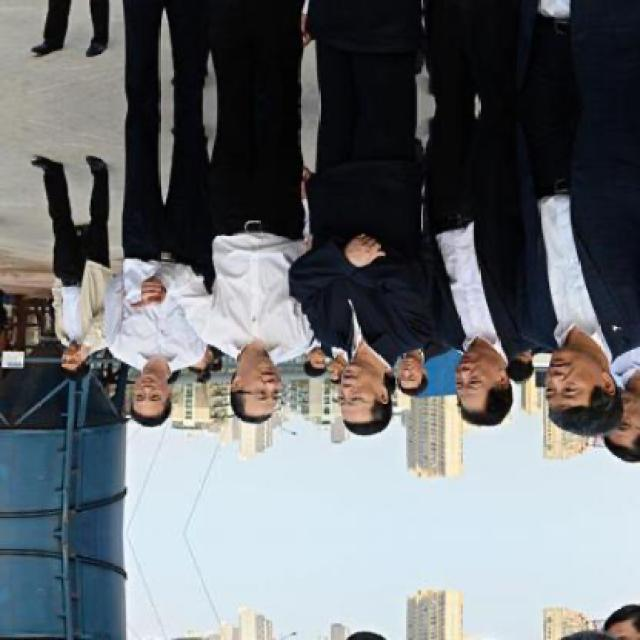sin casco: (509, 321, 640, 469), (300, 327, 420, 472), (100, 322, 214, 443), (197, 328, 296, 447), (454, 314, 516, 448), (32, 321, 104, 395)
